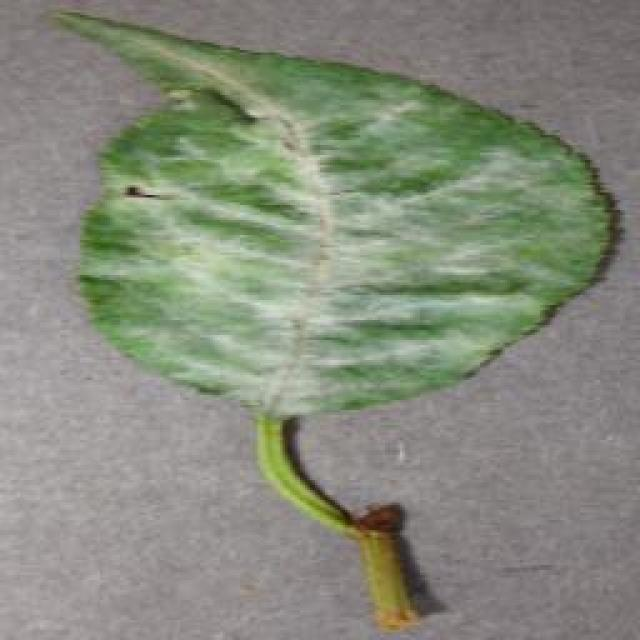Cherry___Powdery_mildew: (55, 0, 627, 638)
